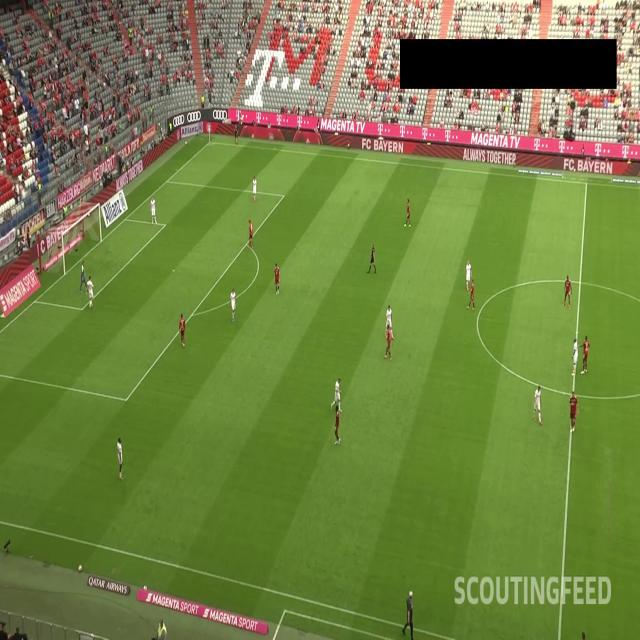player: (577, 332, 591, 374), (568, 388, 581, 432), (331, 402, 343, 447), (330, 376, 344, 413), (115, 433, 125, 482), (532, 384, 544, 424), (77, 260, 90, 296), (560, 272, 572, 310), (385, 302, 395, 342), (228, 288, 239, 322), (271, 261, 282, 295), (384, 323, 392, 364), (464, 257, 473, 293), (466, 278, 476, 310), (87, 274, 95, 311), (571, 337, 578, 378), (247, 217, 255, 252), (404, 195, 412, 228), (150, 195, 159, 224), (179, 312, 185, 349), (251, 173, 258, 203)
referee: (366, 238, 377, 274), (232, 122, 240, 147)
